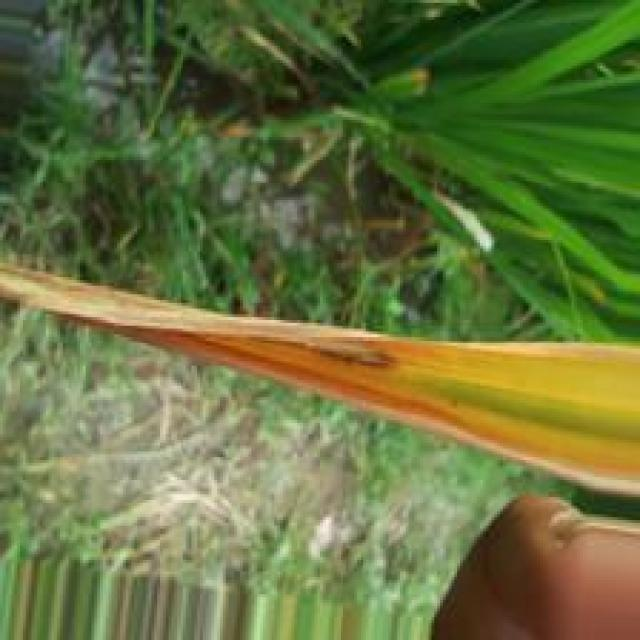Leaf_Scald: (0, 260, 523, 456)
